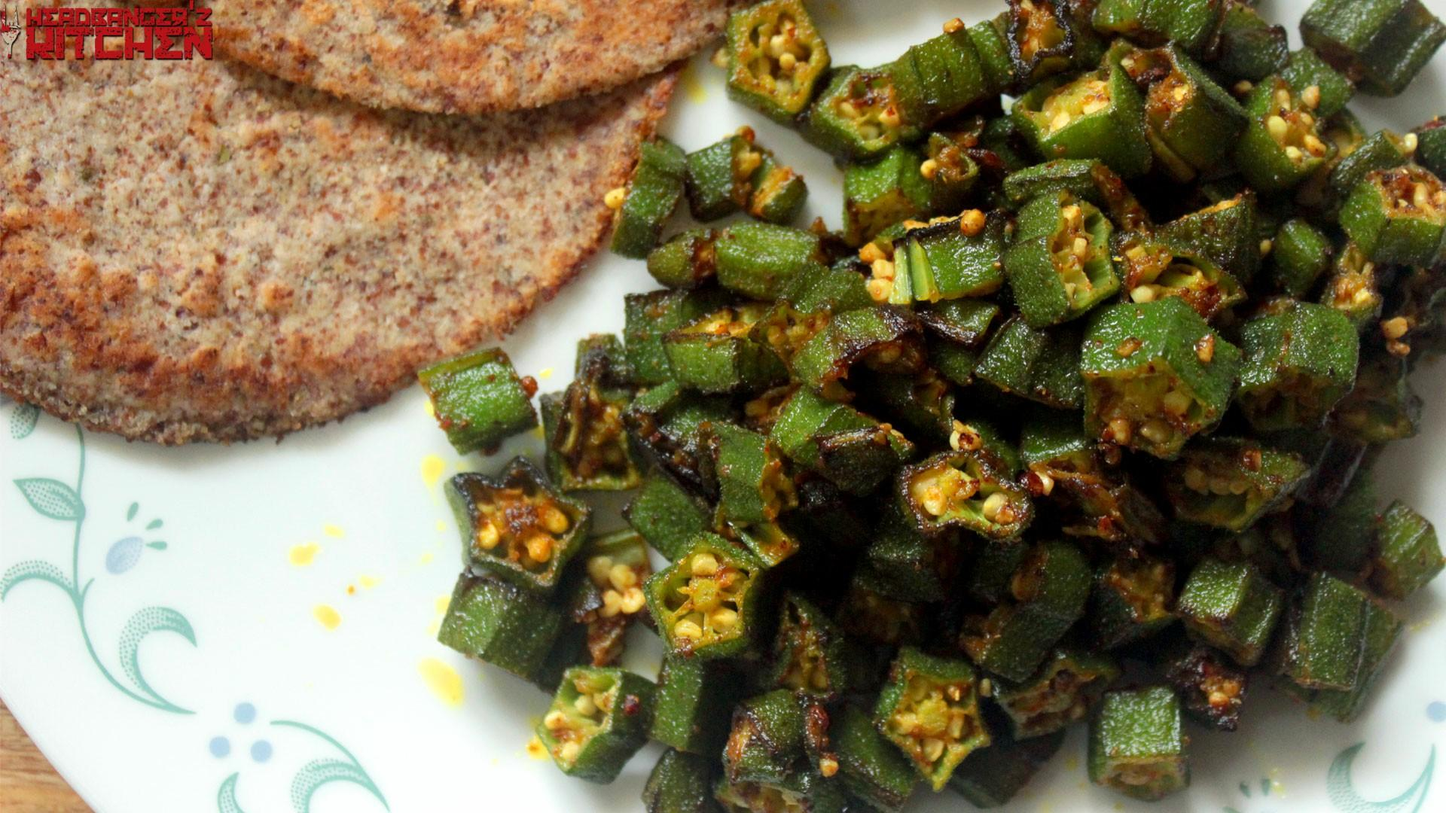BhindiMasala: (424, 3, 1446, 813)
